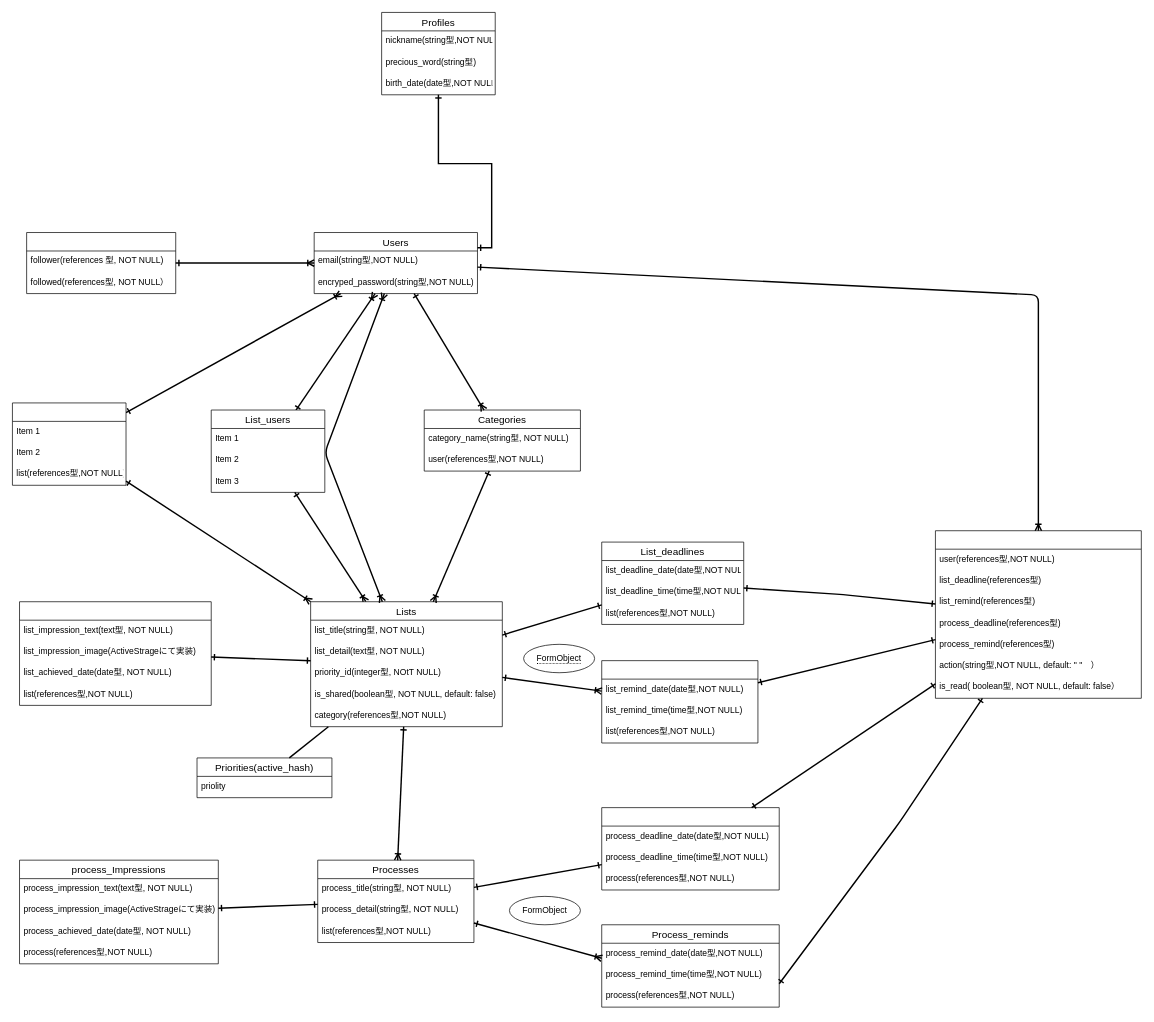
Some shapes in this 1154 by 1022 pixel diagram are drawn without their labels. The box of each missing label's shape, as (x1, y1, x2, y2) in pixels:
list_Impressions: (19, 601, 211, 705)
List_reminds: (601, 660, 758, 743)
Messages: (12, 402, 126, 485)
Process_deadlines: (601, 807, 779, 890)
Reminds: (935, 530, 1141, 698)
Rerationships: (26, 232, 176, 294)
